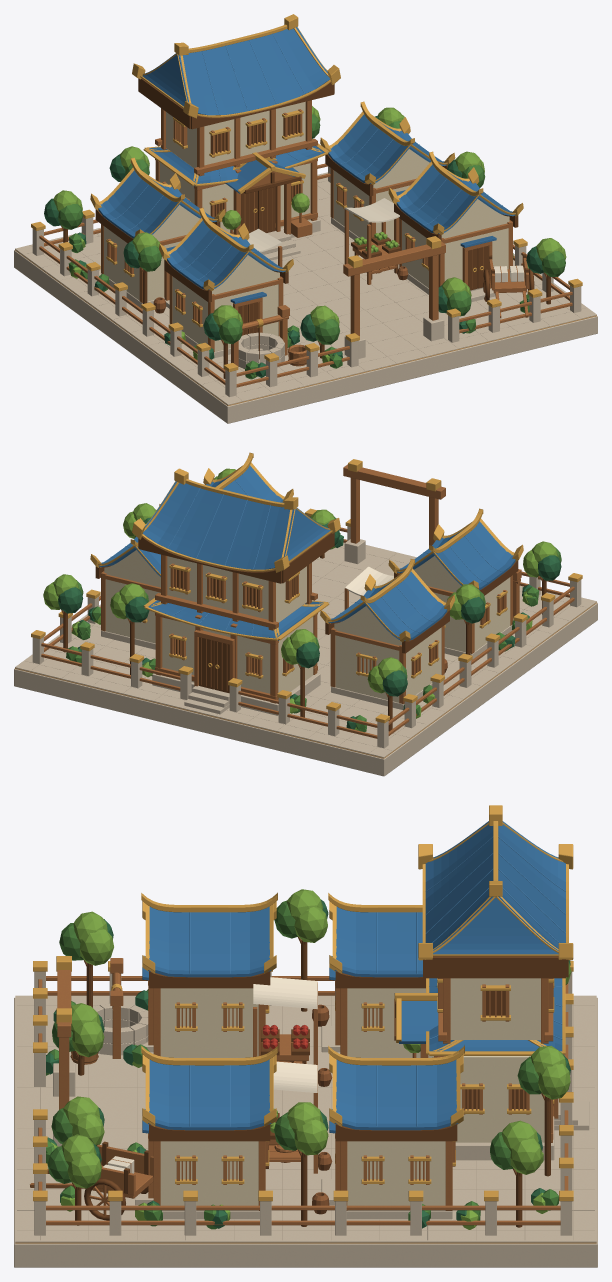
Rendered from city-3.glb.
3 renders of one model, top to bottom at view 1: azimuth 30°, elevation 25°; view 2: azimuth 150°, elevation 25°; view 3: azimuth 270°, elevation 25°, orthographic. The views are drawn at different scales.
Visible parts, largest first — view 1: SM_CT3_V4_Batch_2.003, SM_CT3_V4_Batch_0.003, SM_CT3_V4_Batch_11.003, SM_CT3_V4_Batch_90.003, SM_CT3_V4_Batch_5.003, SM_CT3_V4_Batch_129.003, SM_CT3_V4_Batch_128.003, SM_CT3_V4_Batch_92.003, SM_CT3_V4_Batch_157, SM_CT3_V4_Batch_44.003, SM_CT3_V4_Batch_69.003, SM_CT3_V4_Batch_45.003 (+39 smaller); view 2: SM_CT3_V4_Batch_2.003, SM_CT3_V4_Batch_0.003, SM_CT3_V4_Batch_11.003, SM_CT3_V4_Batch_5.003, SM_CT3_V4_Batch_129.003, SM_CT3_V4_Batch_90.003, SM_CT3_V4_Batch_32.003, SM_CT3_V4_Batch_92.003, SM_CT3_V4_Batch_7.003, SM_CT3_V4_Batch_33.003, SM_CT3_V4_Batch_45.003, SM_CT3_V4_Batch_130.003 (+33 smaller); view 3: SM_CT3_V4_Batch_2.003, SM_CT3_V4_Batch_0.003, SM_CT3_V4_Batch_11.003, SM_CT3_V4_Batch_129.003, SM_CT3_V4_Batch_5.003, SM_CT3_V4_Batch_157, SM_CT3_V4_Batch_45.003, SM_CT3_V4_Batch_69.003, SM_CT3_V4_Batch_57.003, SM_CT3_V4_Batch_92.003, SM_CT3_V4_Batch_90.003, SM_CT3_V4_Batch_44.003 (+44 smaller).
Boxes of the visible parts, x1=… form: SM_CT3_V4_Batch_2.003: x1=15, y1=172, x2=596, y2=405; SM_CT3_V4_Batch_0.003: x1=14, y1=250, x2=597, y2=423; SM_CT3_V4_Batch_11.003: x1=142, y1=27, x2=329, y2=115; SM_CT3_V4_Batch_90.003: x1=32, y1=166, x2=581, y2=396; SM_CT3_V4_Batch_5.003: x1=159, y1=101, x2=310, y2=232; SM_CT3_V4_Batch_129.003: x1=53, y1=106, x2=566, y2=327; SM_CT3_V4_Batch_128.003: x1=58, y1=114, x2=565, y2=344; SM_CT3_V4_Batch_92.003: x1=39, y1=163, x2=572, y2=387; SM_CT3_V4_Batch_157: x1=95, y1=78, x2=518, y2=302; SM_CT3_V4_Batch_44.003: x1=172, y1=255, x2=279, y2=351; SM_CT3_V4_Batch_69.003: x1=396, y1=164, x2=515, y2=247; SM_CT3_V4_Batch_45.003: x1=167, y1=220, x2=285, y2=303; SM_CT3_V4_Batch_2.003: x1=15, y1=542, x2=596, y2=757; SM_CT3_V4_Batch_0.003: x1=14, y1=602, x2=597, y2=776; SM_CT3_V4_Batch_11.003: x1=143, y1=481, x2=330, y2=569; SM_CT3_V4_Batch_5.003: x1=162, y1=556, x2=313, y2=699; SM_CT3_V4_Batch_129.003: x1=43, y1=468, x2=558, y2=693; SM_CT3_V4_Batch_90.003: x1=32, y1=517, x2=581, y2=748; SM_CT3_V4_Batch_32.003: x1=334, y1=606, x2=441, y2=702; SM_CT3_V4_Batch_92.003: x1=41, y1=527, x2=574, y2=738; SM_CT3_V4_Batch_7.003: x1=155, y1=554, x2=317, y2=703; SM_CT3_V4_Batch_33.003: x1=328, y1=571, x2=447, y2=640; SM_CT3_V4_Batch_45.003: x1=397, y1=521, x2=515, y2=589; SM_CT3_V4_Batch_130.003: x1=58, y1=518, x2=561, y2=696; SM_CT3_V4_Batch_2.003: x1=15, y1=995, x2=596, y2=1242; SM_CT3_V4_Batch_0.003: x1=14, y1=997, x2=597, y2=1267; SM_CT3_V4_Batch_11.003: x1=425, y1=821, x2=565, y2=954; SM_CT3_V4_Batch_129.003: x1=61, y1=889, x2=571, y2=1188; SM_CT3_V4_Batch_5.003: x1=450, y1=978, x2=544, y2=1142; SM_CT3_V4_Batch_157: x1=149, y1=956, x2=568, y2=1141; SM_CT3_V4_Batch_45.003: x1=142, y1=906, x2=271, y2=980; SM_CT3_V4_Batch_69.003: x1=142, y1=1059, x2=271, y2=1133; SM_CT3_V4_Batch_57.003: x1=329, y1=1060, x2=458, y2=1133; SM_CT3_V4_Batch_92.003: x1=38, y1=976, x2=568, y2=1225; SM_CT3_V4_Batch_90.003: x1=34, y1=971, x2=572, y2=1235; SM_CT3_V4_Batch_44.003: x1=160, y1=988, x2=258, y2=1057.
Bounding box in the file's own units: 10 × 5.66 × 10.
16 materials, 5 textured.
